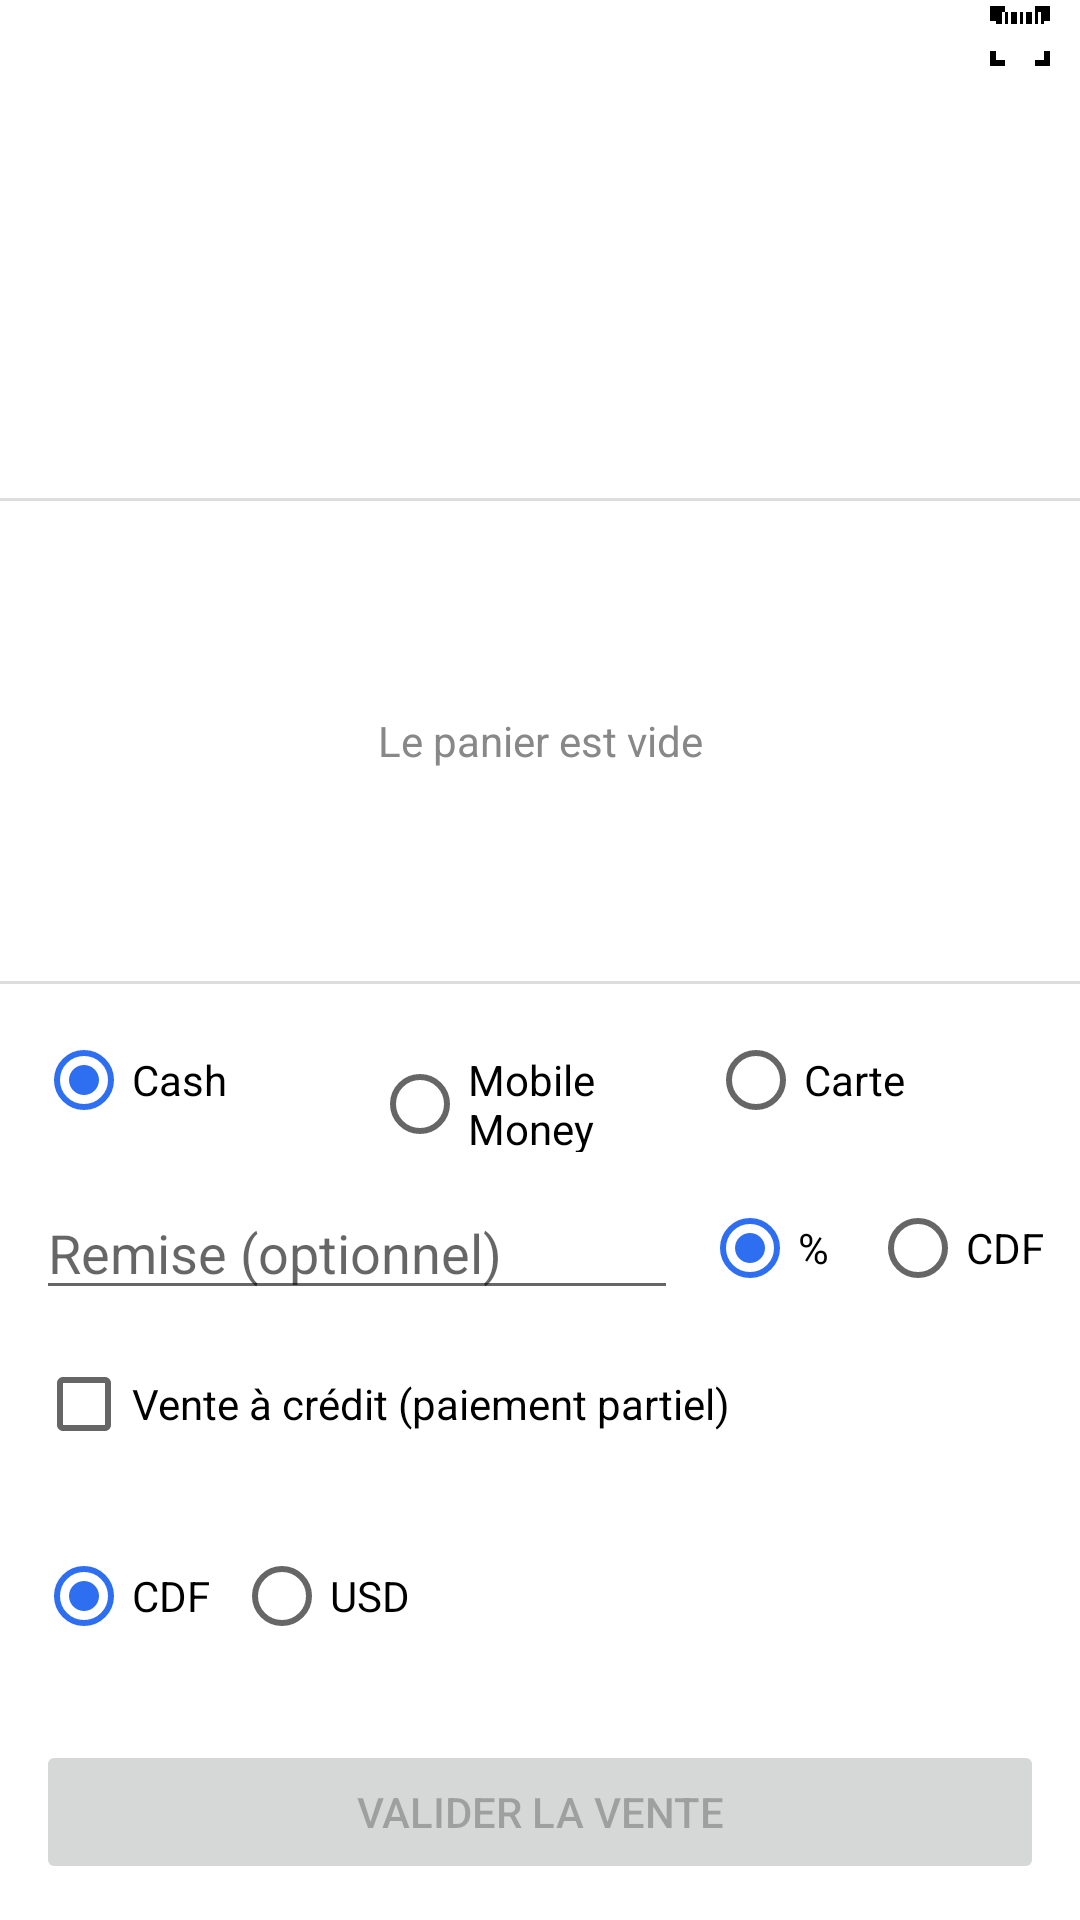

Named icons in this screenshot (1080x1920) and their bounding boxes, Rect(x1, y1, x2, y2):
Scanner un code-barres: Rect(990, 6, 1050, 66)
